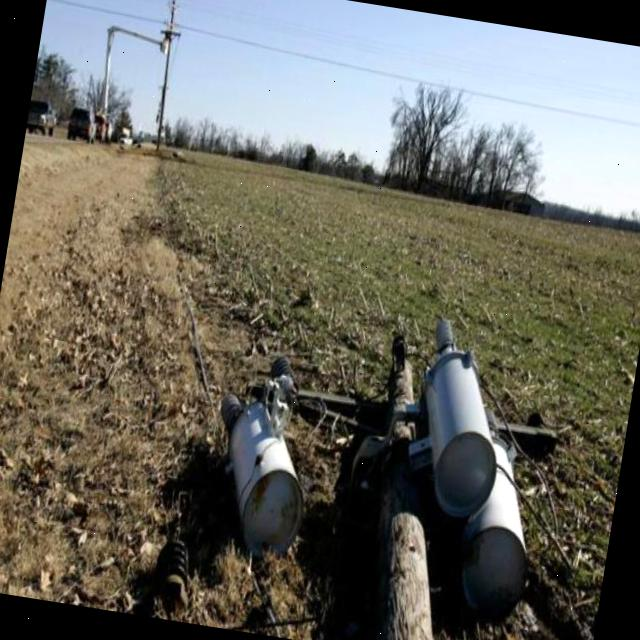Broken Pole: (167, 281, 599, 640)
